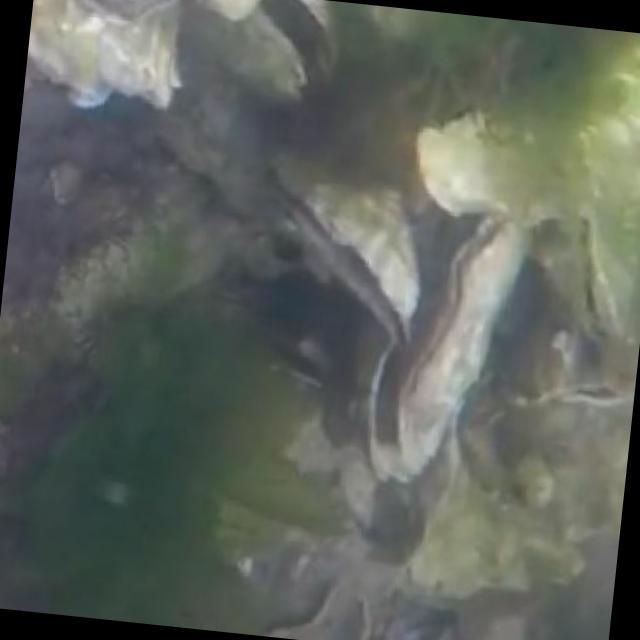Oyster- Indeterminate: (25, 0, 196, 113), (409, 99, 563, 221)
Oyster-Open: (356, 214, 530, 492), (255, 176, 416, 355), (178, 0, 349, 118), (540, 219, 630, 343), (486, 379, 633, 453)
